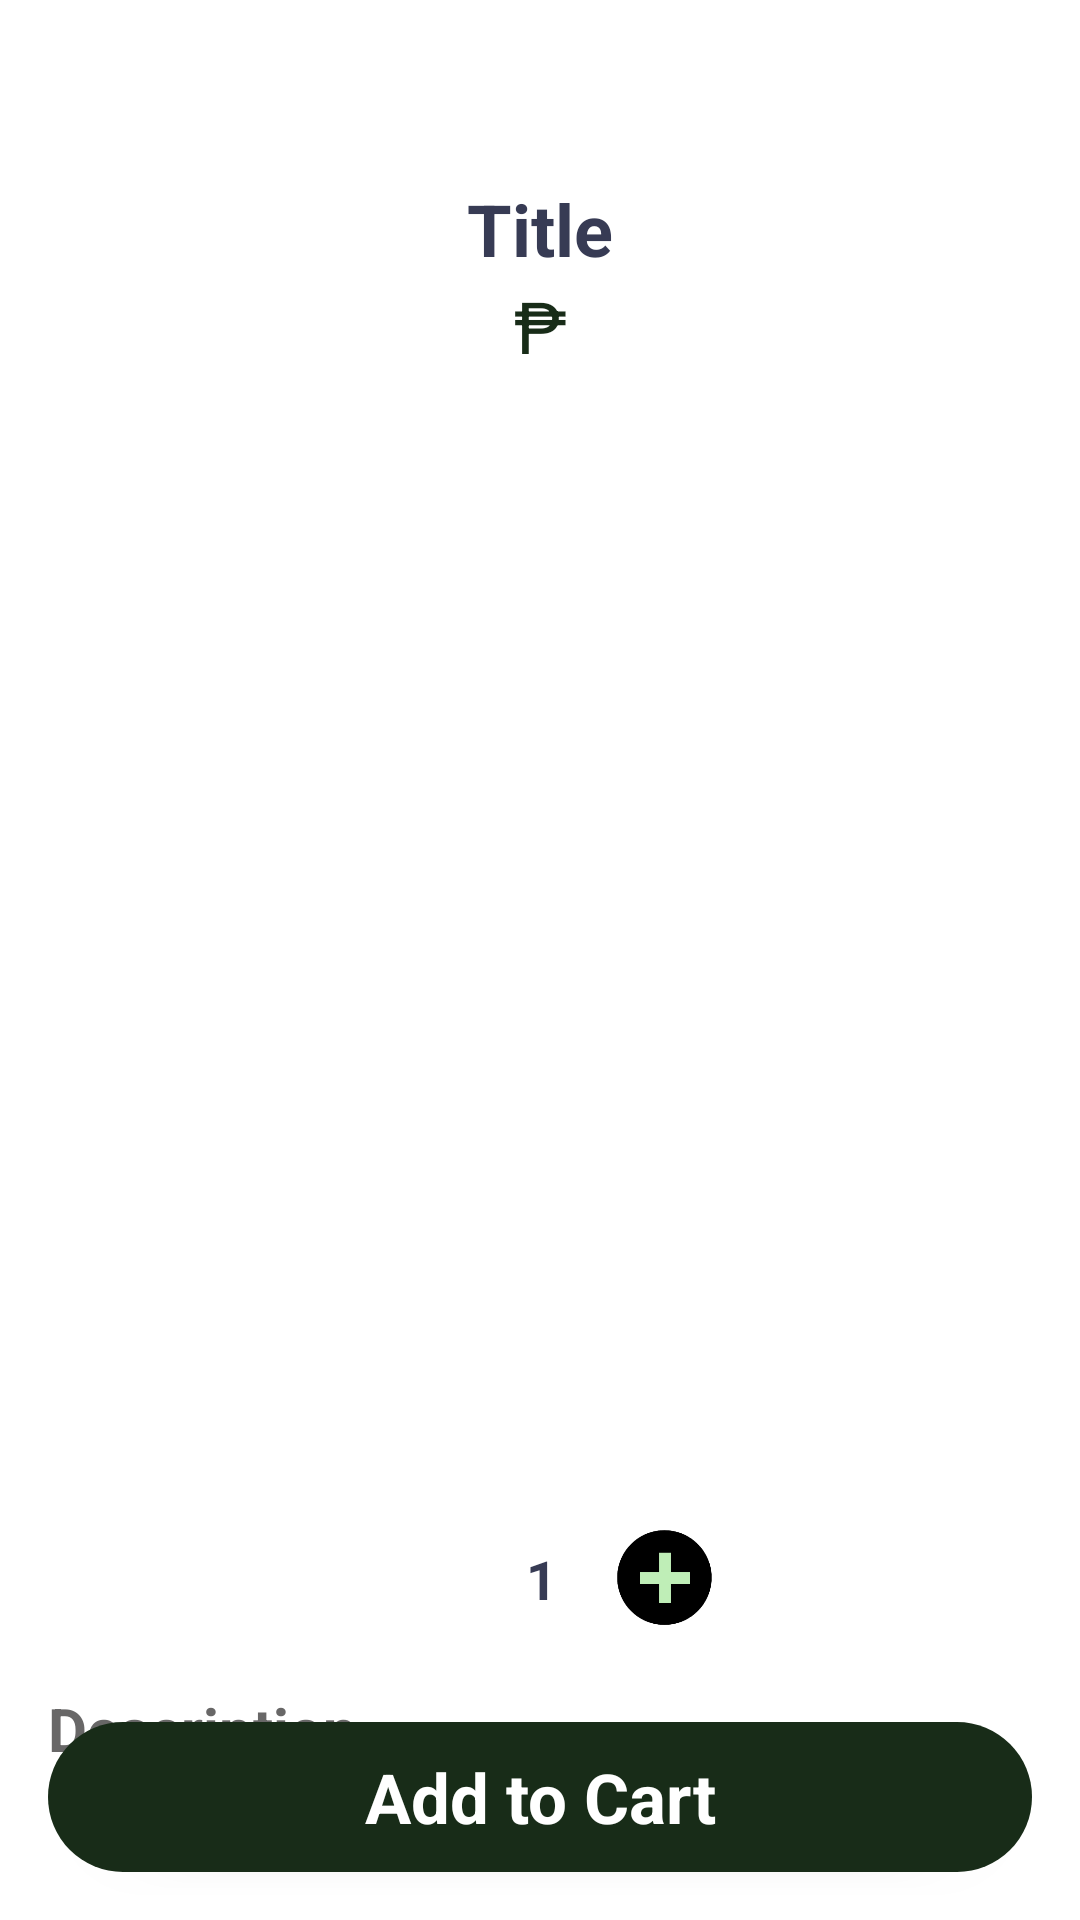

Named icons in this screenshot (1080px x 1920px) and their bounding boxes, [left=x1, top=y1, right=x2, bottom=y2]:
plus: [left=617, top=1530, right=712, bottom=1625]
